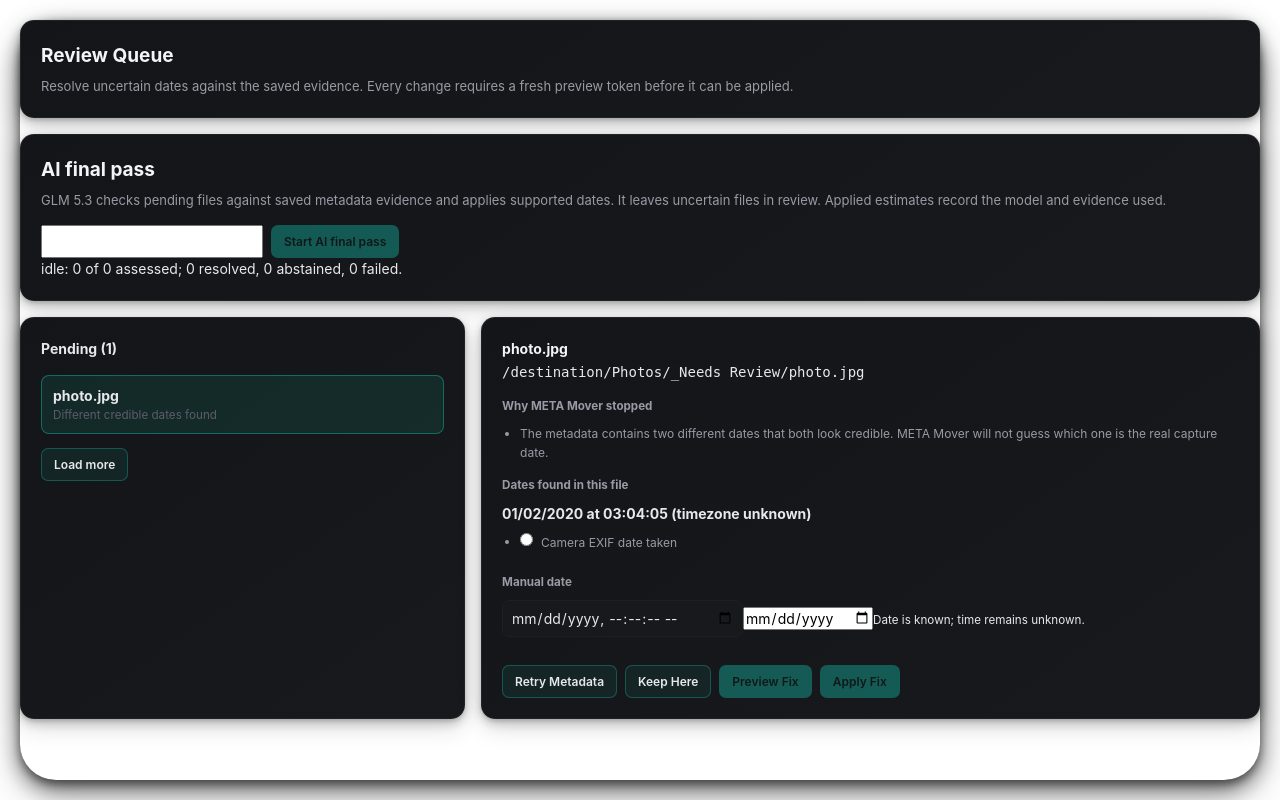
Test: ReviewView › shows a failure reported by the current AI batch
This screenshot has width=1280, height=800.
Type "secret" into the password field named "AI coding endpoint key".
click(152, 241); type("secret")  # box [41,225,263,258]
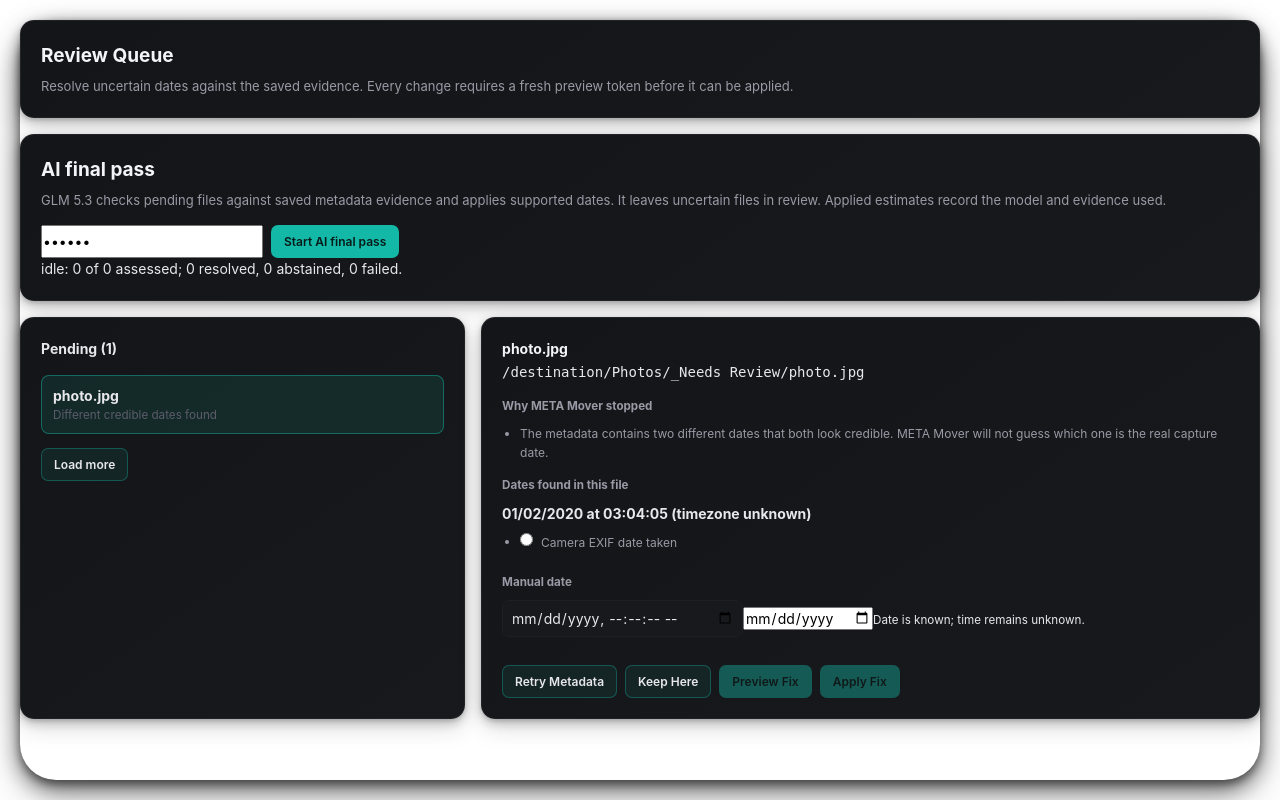
Click the button "Start AI final pass".
click(335, 241)  # box [271,225,399,258]
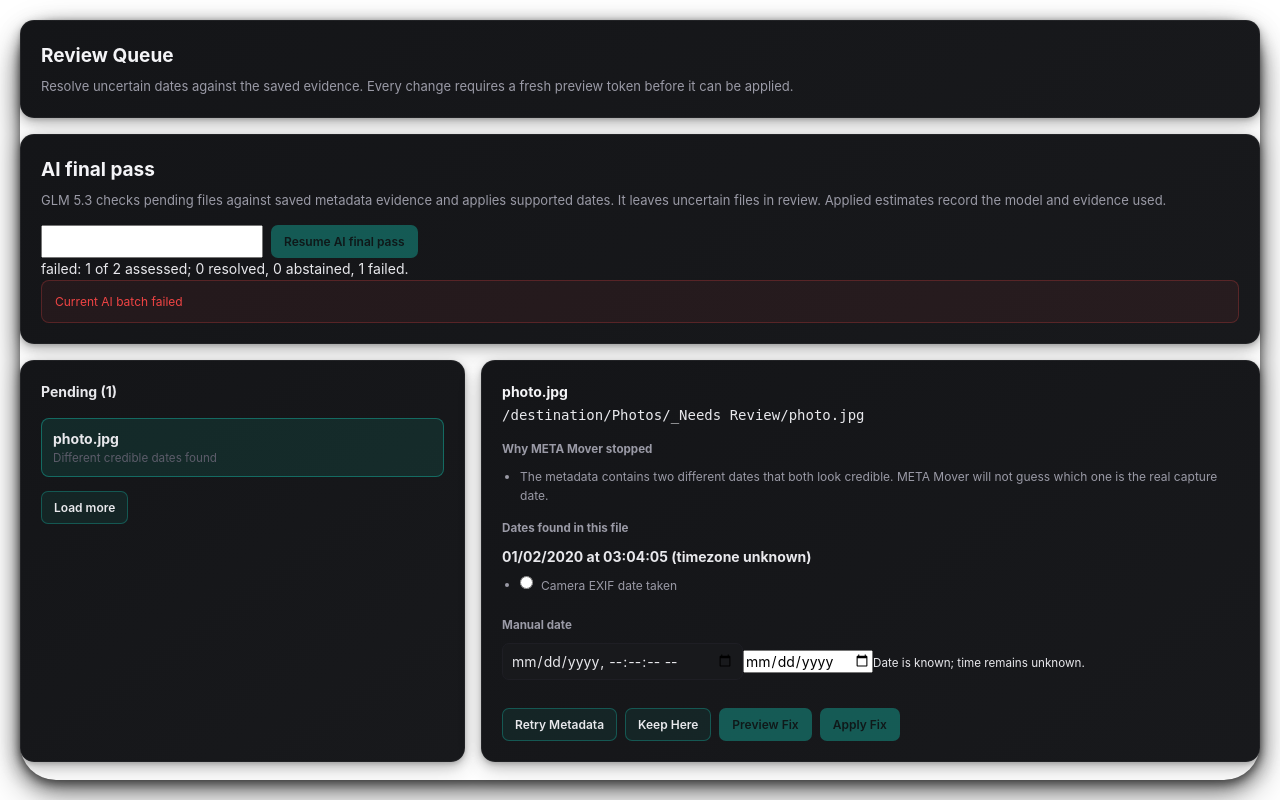
Expected: the message reads "Current AI batch failed", [55,294,183,309]
